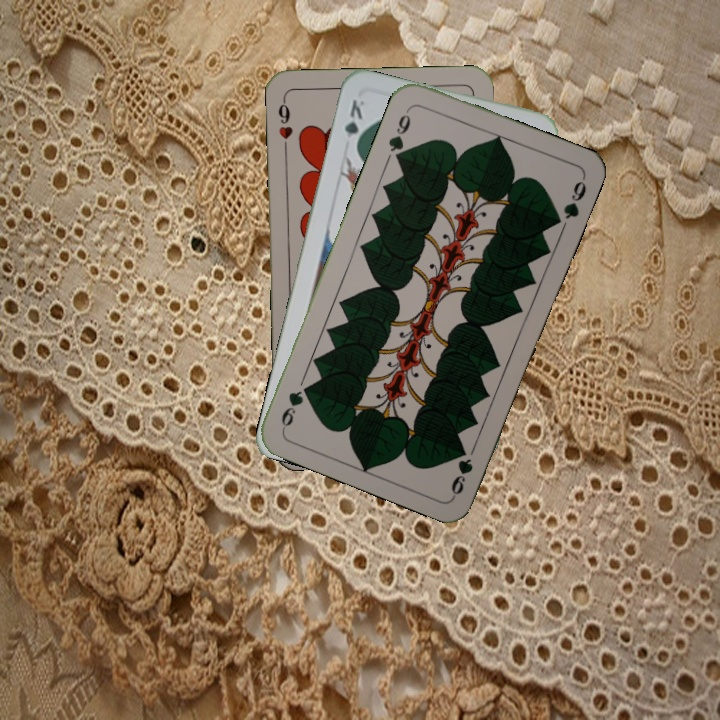G9: (384, 104, 414, 164), (447, 443, 476, 499)
GK: (340, 95, 368, 153)
H9: (274, 95, 295, 154)
